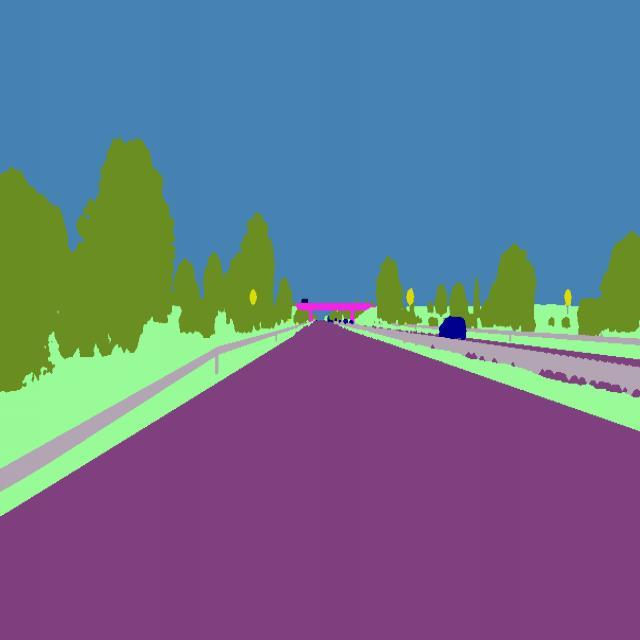safe: (438, 311, 470, 348)
